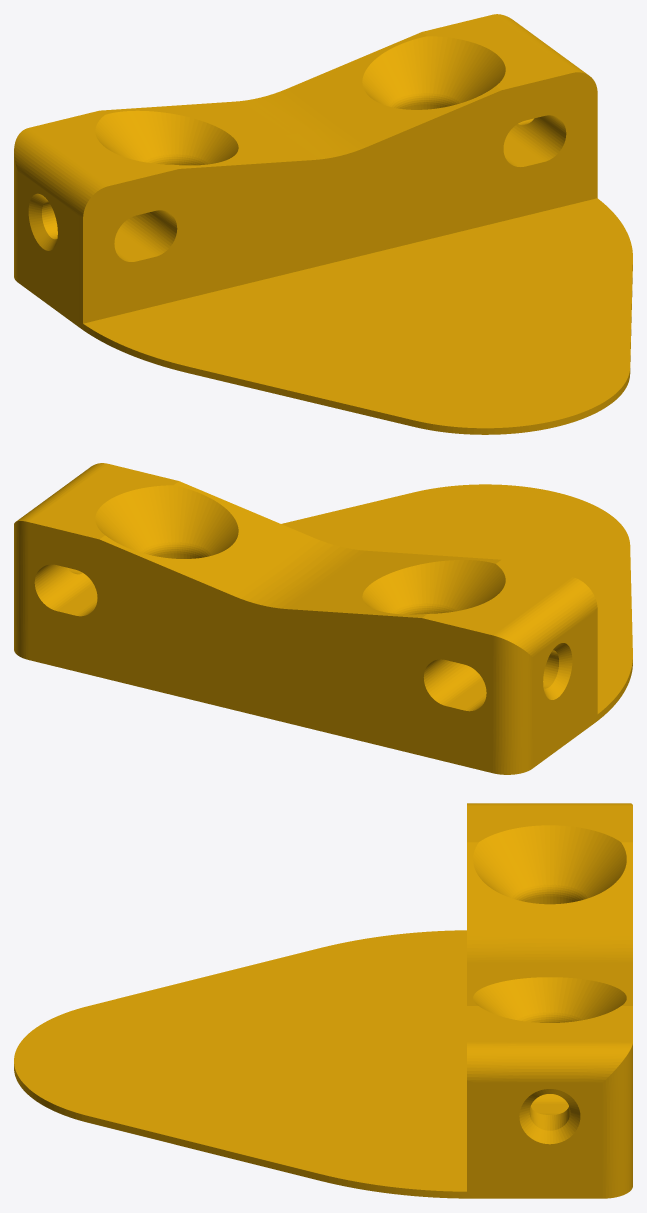
File: Ender_Z-Axis_Motor_Mount-90.glb
3 renders of one model, top to bottom at view 1: azimuth 30°, elevation 25°; view 2: azimuth 150°, elevation 25°; view 3: azimuth 270°, elevation 25°, orthographic. The views are drawn at different scales.
Bounding box in the file's own units: 41 × 10.5 × 41.
